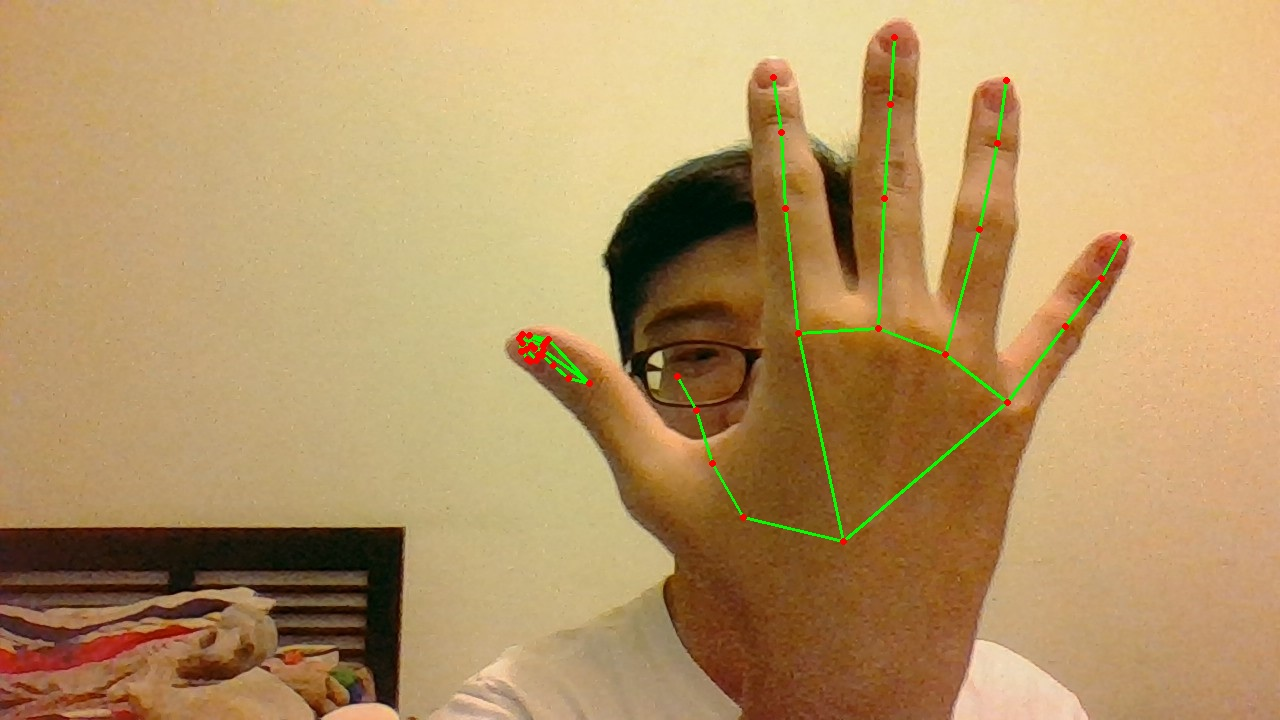Hello: (666, 27, 1131, 548)
